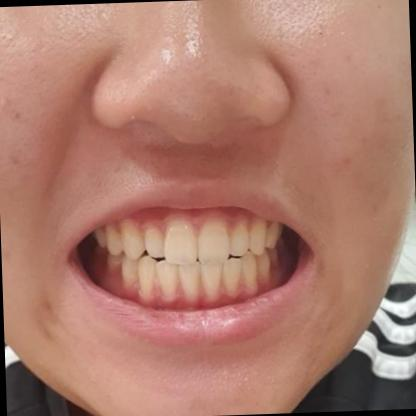Healthy: (166, 215, 230, 260), (157, 261, 237, 296), (98, 227, 144, 282), (242, 226, 279, 283)
